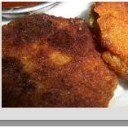cutlet: (3, 18, 96, 106), (92, 2, 128, 69)
